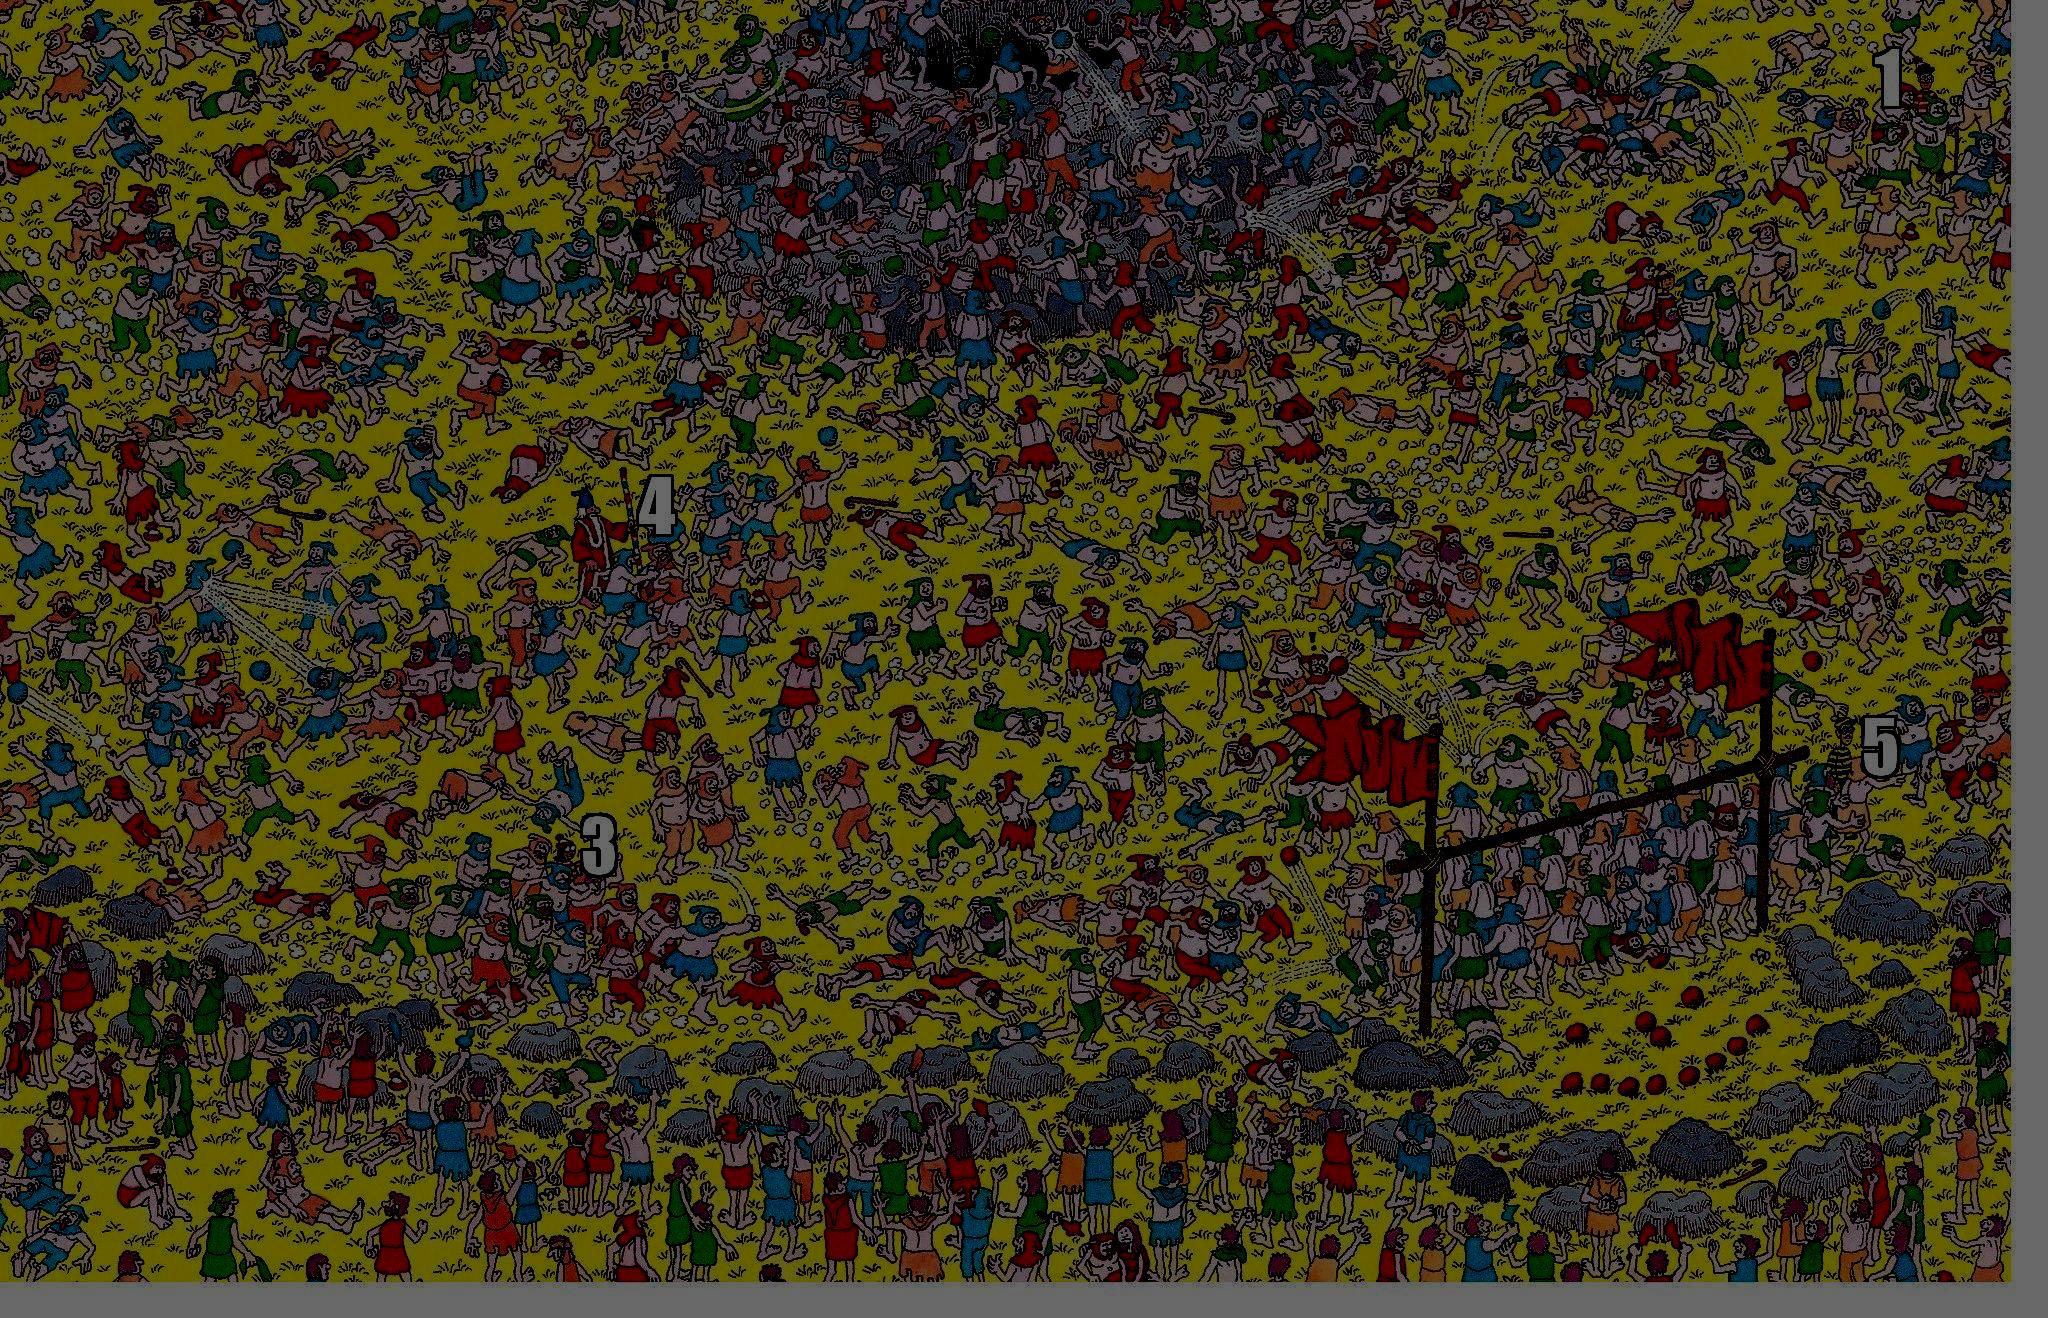waldos: (1911, 55, 1944, 113)
